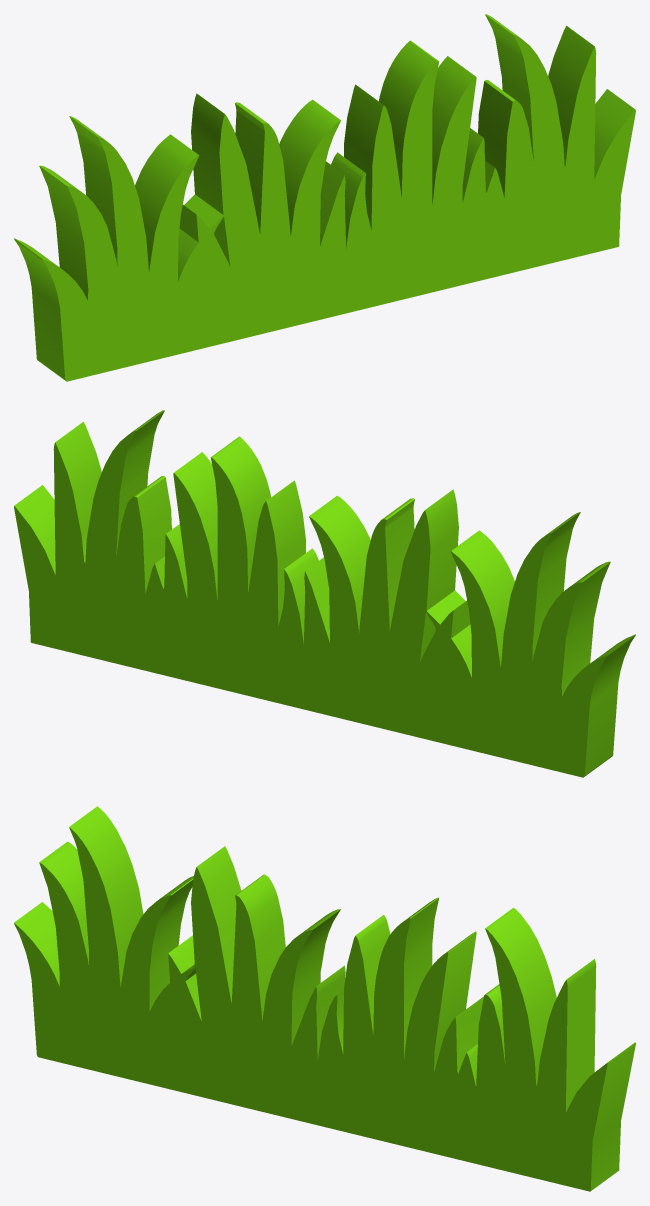
3 views of the same model, one above another, from view 1: azimuth 30°, elevation 25°; view 2: azimuth 150°, elevation 25°; view 3: azimuth 330°, elevation 25° (orthographic).
Visible parts, largest first — view 1: Curve_Material.001_0; view 2: Curve_Material.001_0; view 3: Curve_Material.001_0.
Boxes of the visible parts, left/top/right/bottom form: Curve_Material.001_0: left=14, top=14, right=635, bottom=381; Curve_Material.001_0: left=14, top=410, right=635, bottom=777; Curve_Material.001_0: left=14, top=806, right=635, bottom=1191.
Bounding box in the file's own units: 2.21 × 0.8467 × 0.1836.
